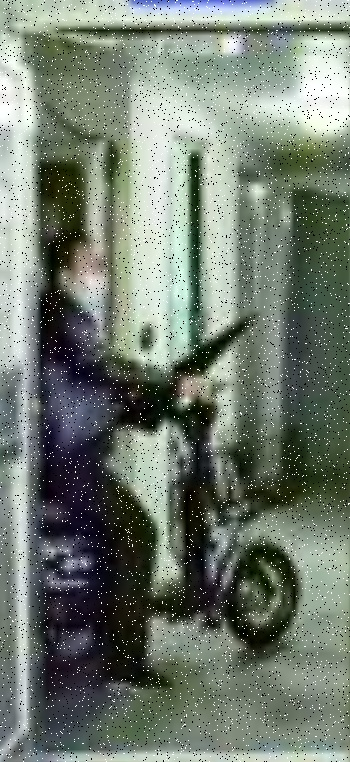ebike: (33, 379, 310, 643)
person: (41, 231, 213, 691)
